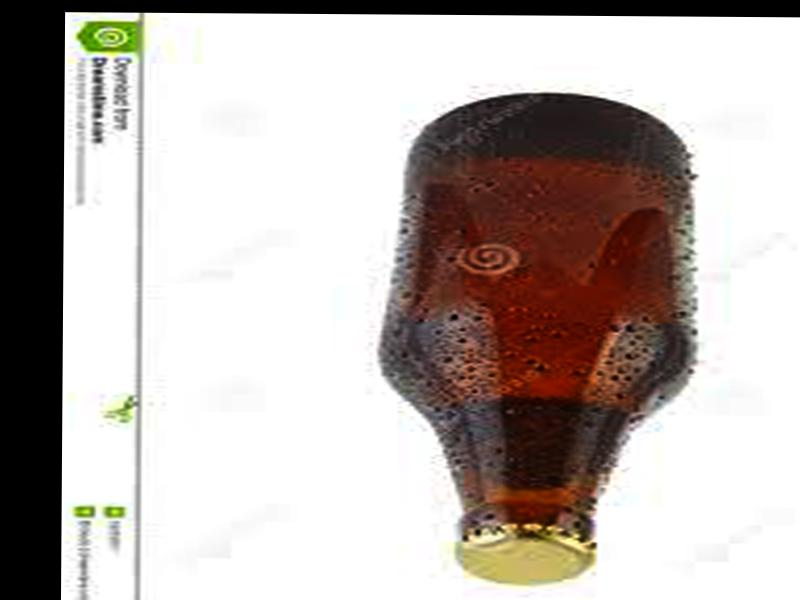Beer: (379, 94, 698, 584)
